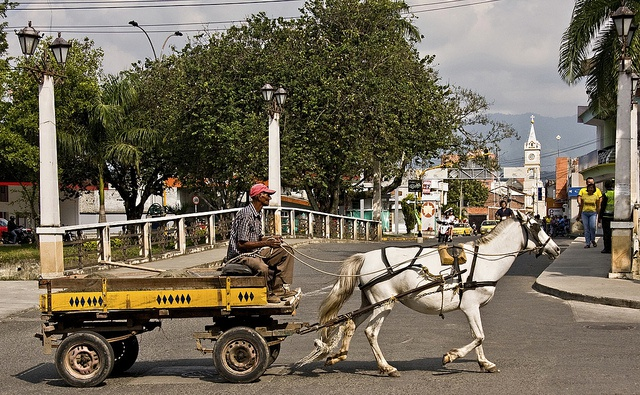non-vehicle: (4, 225, 33, 246), (434, 217, 454, 241)
